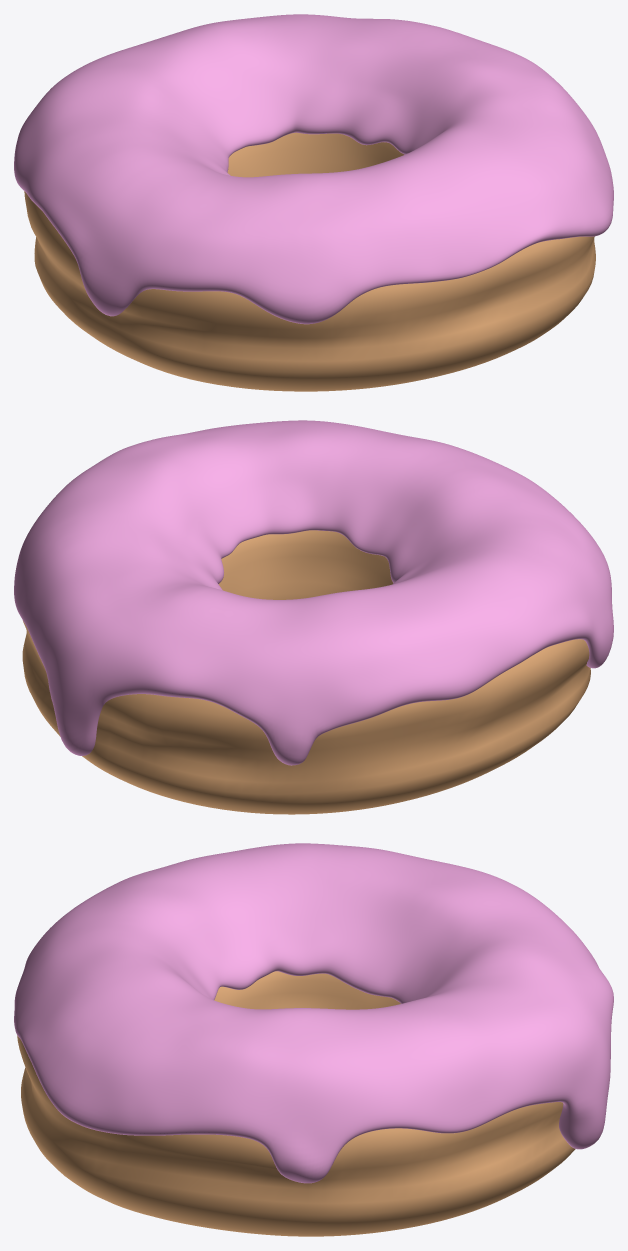
Rendered from donut.fbx.
3 views of the same model, one above another, from view 1: azimuth 30°, elevation 25°; view 2: azimuth 150°, elevation 25°; view 3: azimuth 270°, elevation 25° (orthographic). The views are drawn at different scales.
Visible parts, largest first — view 1: Icing, Donut; view 2: Icing, Donut; view 3: Icing, Donut.
Boxes of the visible parts, x1,y1,x2,y2 form: Icing: (14,14,613,324); Donut: (24,132,595,391); Icing: (14,420,613,765); Donut: (22,530,590,814); Icing: (14,843,613,1183); Donut: (17,971,575,1236).
Size of the model in its own units: 14.8 by 5.61 by 14.38.
